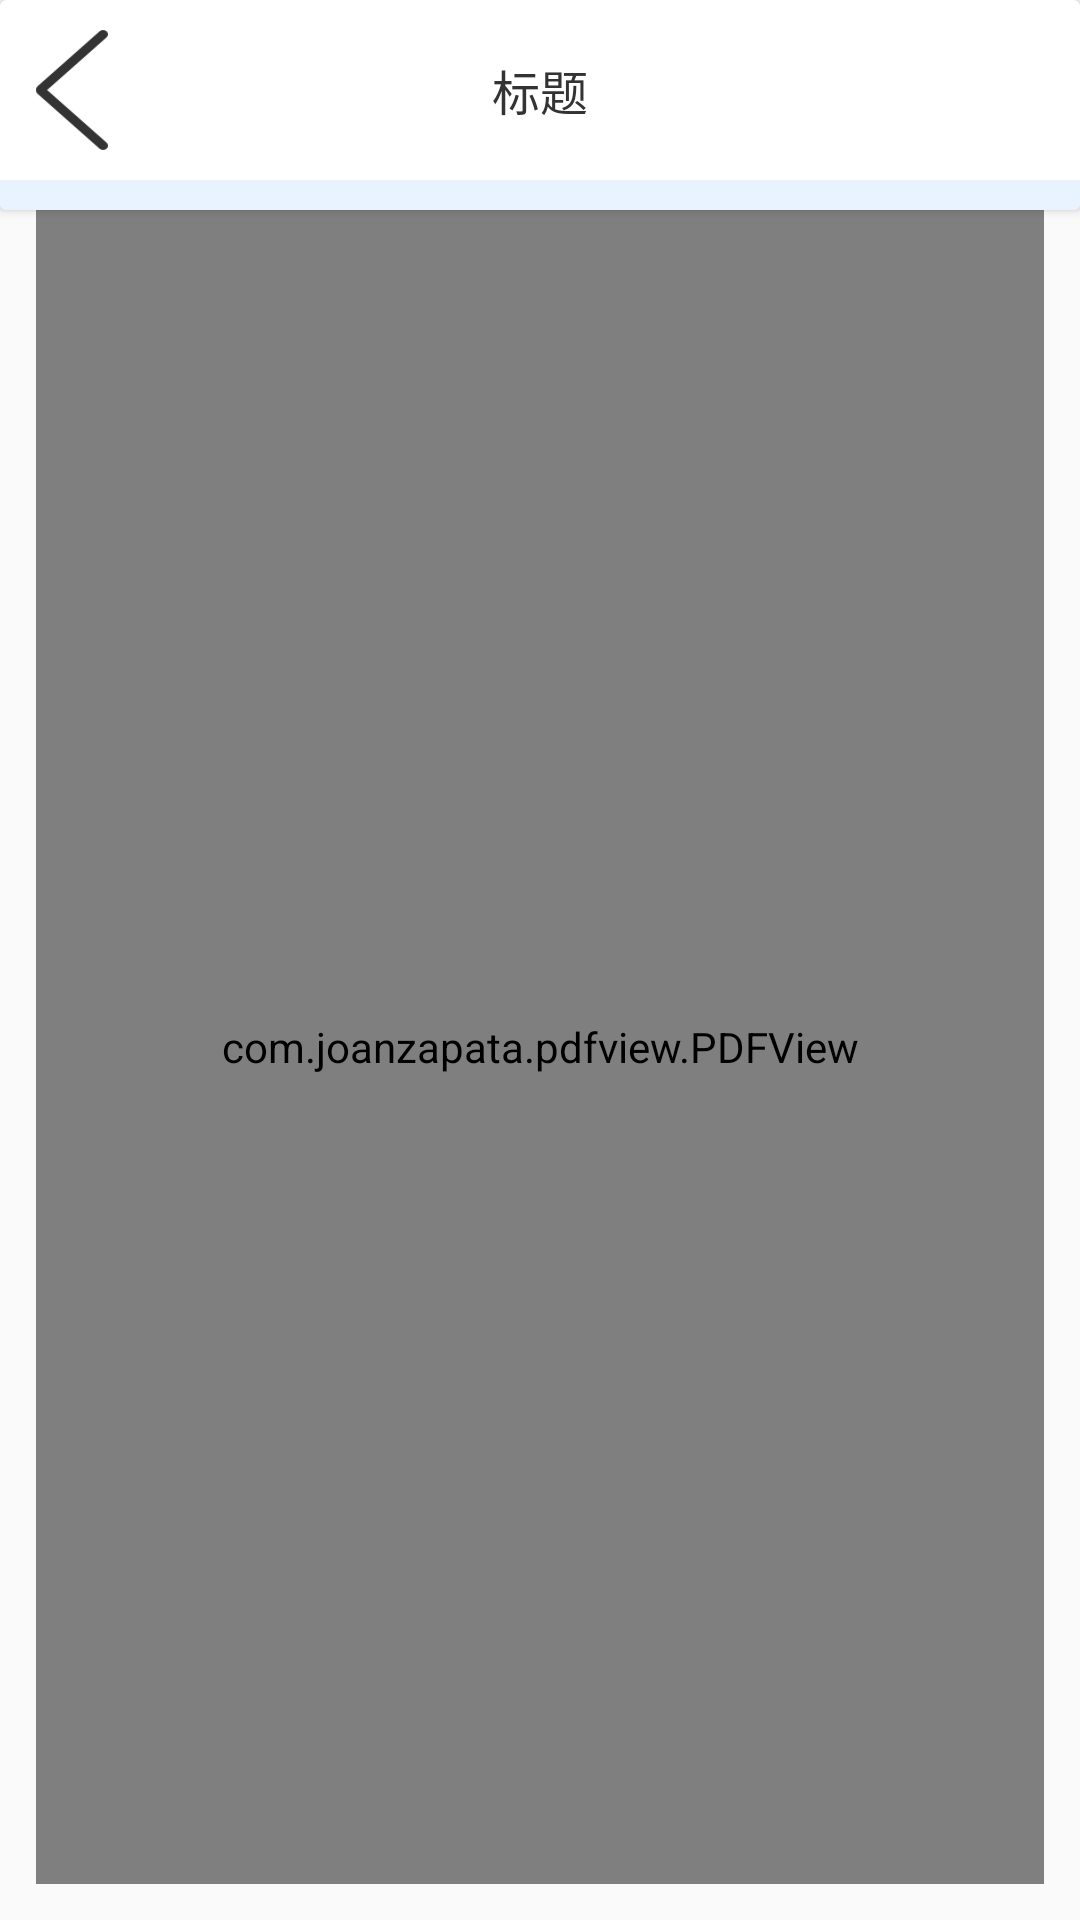

Screen size 1080w x 1920h. Icon name, then its center in pixels as (x=x, y=y):
return: (x=72, y=90)
